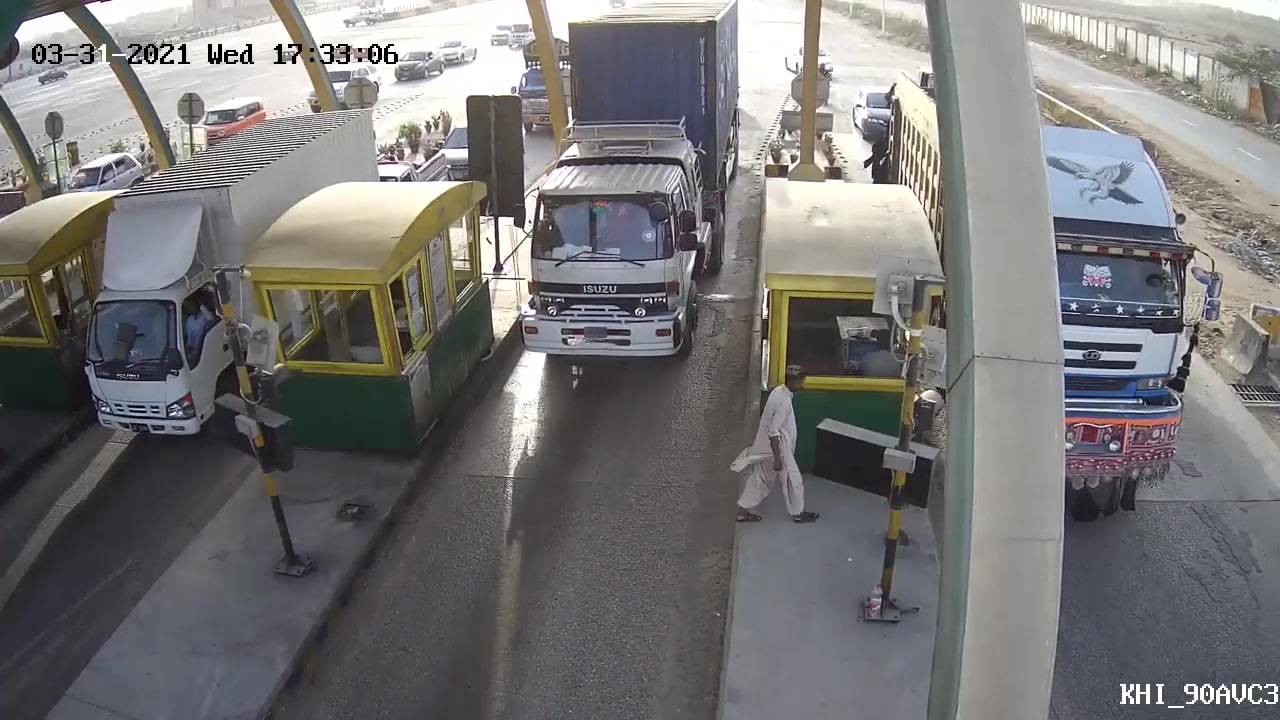F6: (476, 13, 734, 478)
